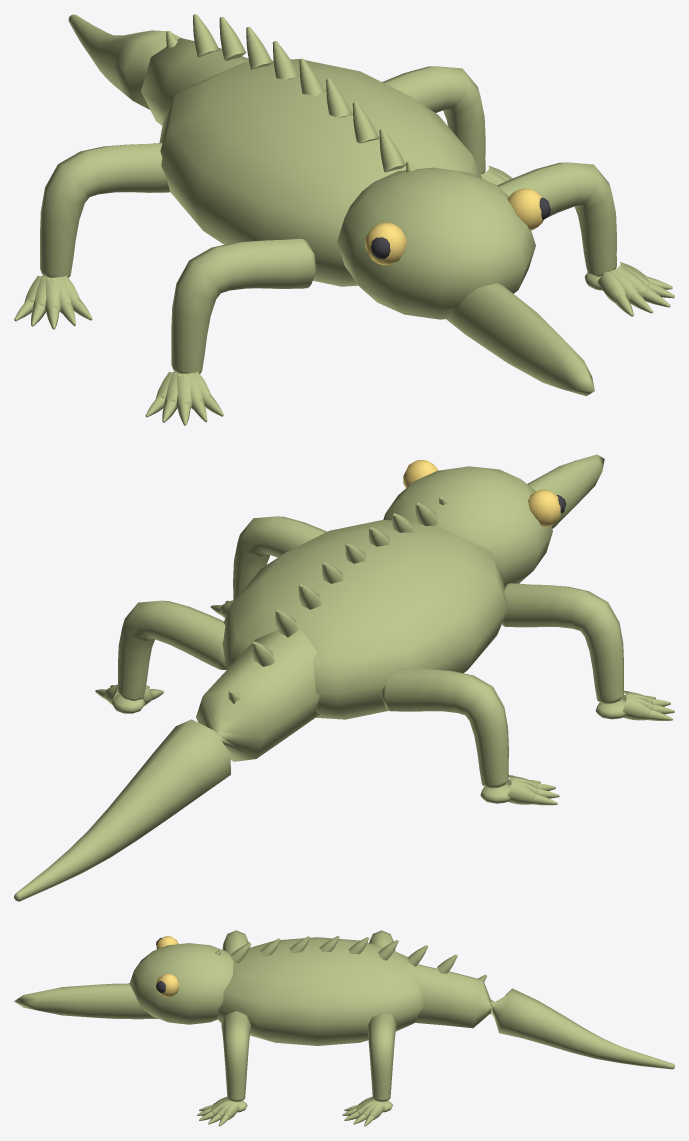
The model's file is reptiles-amphibians-and-minibeasts-gharial-8410e5b1__22434.glb.
The picture shows the model from 3 angles, top to bottom: view 1: azimuth 30°, elevation 25°; view 2: azimuth 150°, elevation 25°; view 3: azimuth 270°, elevation 25°; orthographic projection. The views are drawn at different scales.
Visible parts, largest first — view 1: gharial; view 2: gharial; view 3: gharial.
Boxes of the visible parts, x1,y1,x2,y2 form: gharial: (14,14,674,425); gharial: (14,454,674,901); gharial: (14,930,674,1126).
Bounding box in the file's own units: 2.14 × 0.8403 × 4.2.
